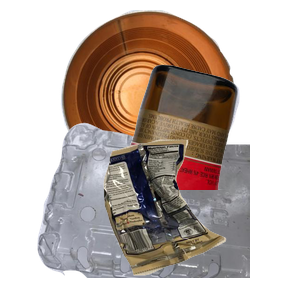glass: (113, 62, 300, 242)
metal: (58, 10, 289, 186)
plastic: (35, 120, 275, 300)
trash: (101, 137, 300, 300)
